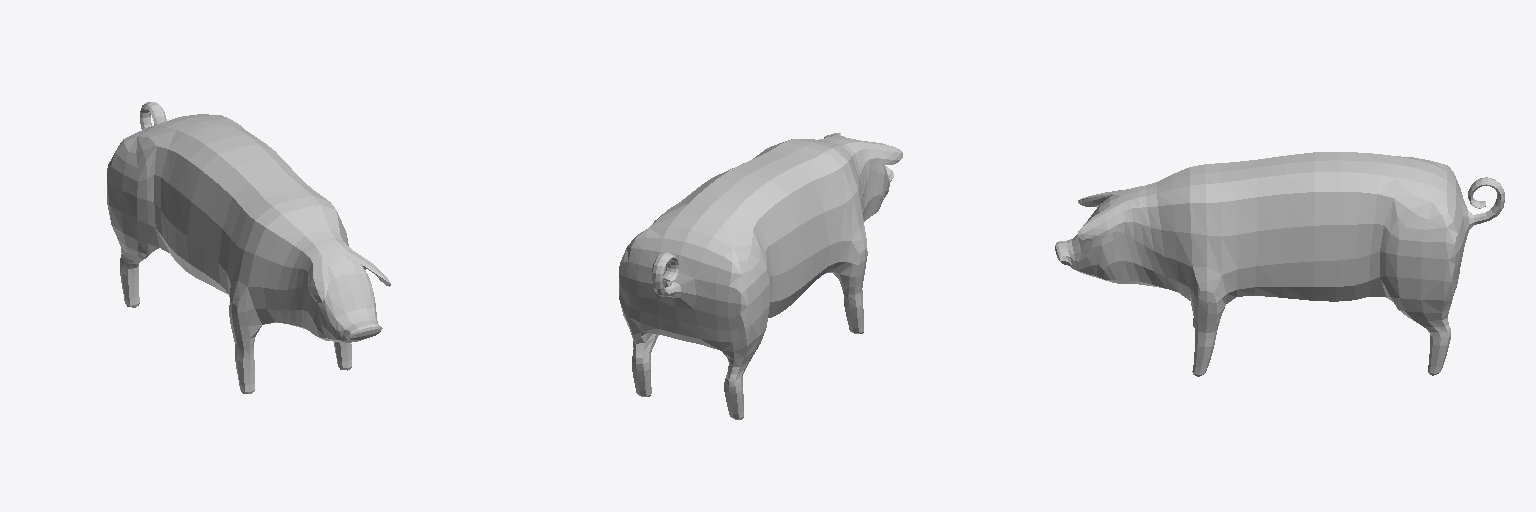
The model's file is PIG SMOOTH.obj.
3 renders of one model, left to right at view 1: azimuth 30°, elevation 25°; view 2: azimuth 150°, elevation 25°; view 3: azimuth 270°, elevation 25°, orthographic.
Visible parts, largest first — view 1: Pig; view 2: Pig; view 3: Pig.
Boxes of the visible parts, <box> form: Pig: <box>107,102,390,393</box>; Pig: <box>619,133,902,419</box>; Pig: <box>1055,152,1504,376</box>.
Bounding box in the file's own units: 321 × 453 × 967.